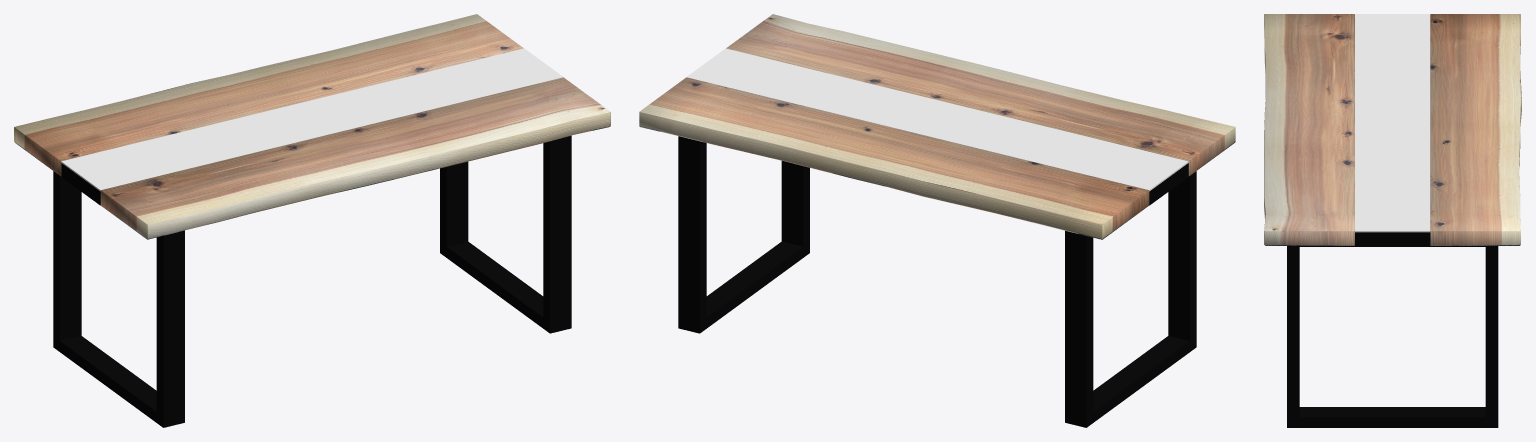
File: wamodan_table.glb
3 views of the same model, side by side, from view 1: azimuth 30°, elevation 25°; view 2: azimuth 150°, elevation 25°; view 3: azimuth 270°, elevation 25° (orthographic). The views are drawn at different scales.
Visible parts, largest first — view 1: 立方体; view 2: 立方体; view 3: 立方体.
Part boxes in pixels (x1=…): 立方体: x1=14, y1=14, x2=610, y2=427; 立方体: x1=639, y1=14, x2=1235, y2=427; 立方体: x1=1264, y1=14, x2=1521, y2=427.
Size of the model in its own units: 1.7 by 0.7648 by 0.8513.
4 materials, 1 textured.
